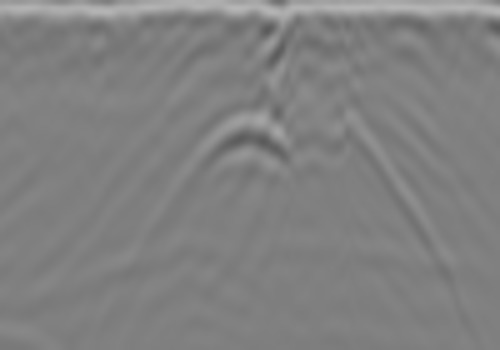hyperbola: (142, 115, 330, 256)
